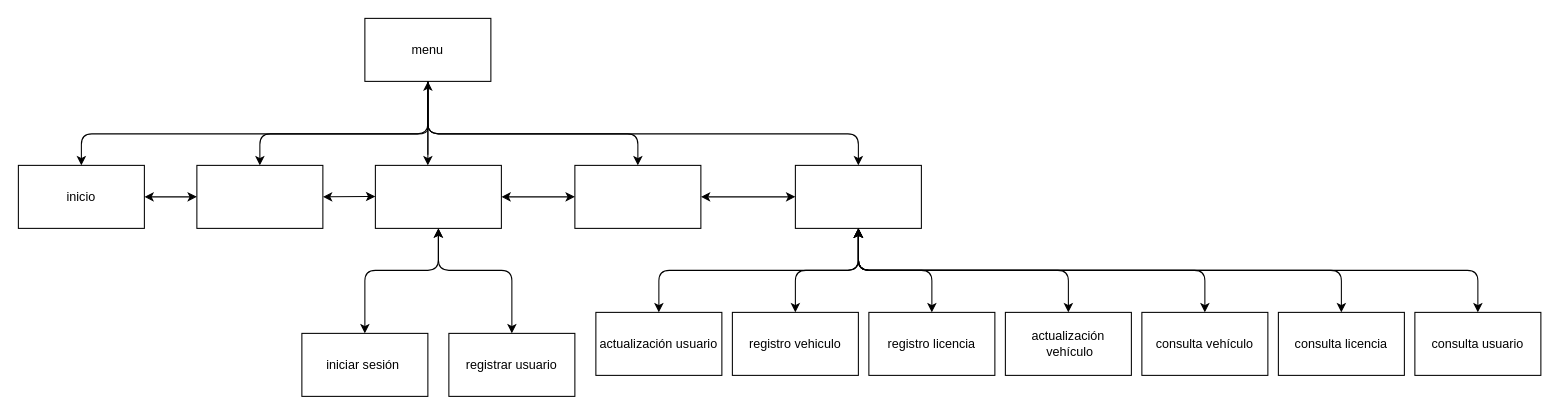
This 1559x415 diagram has some shape labels left out. The centre of each missing label's shape, as x and y in pixels:
cuenta: point 437,196
normas: point 637,196
sobre nosotros: point 259,196
tramites: point 857,196
